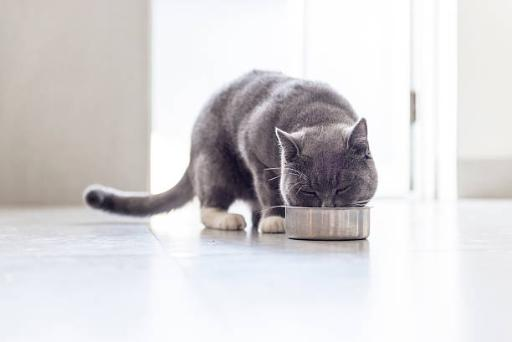cat_eating: (84, 70, 377, 240)
